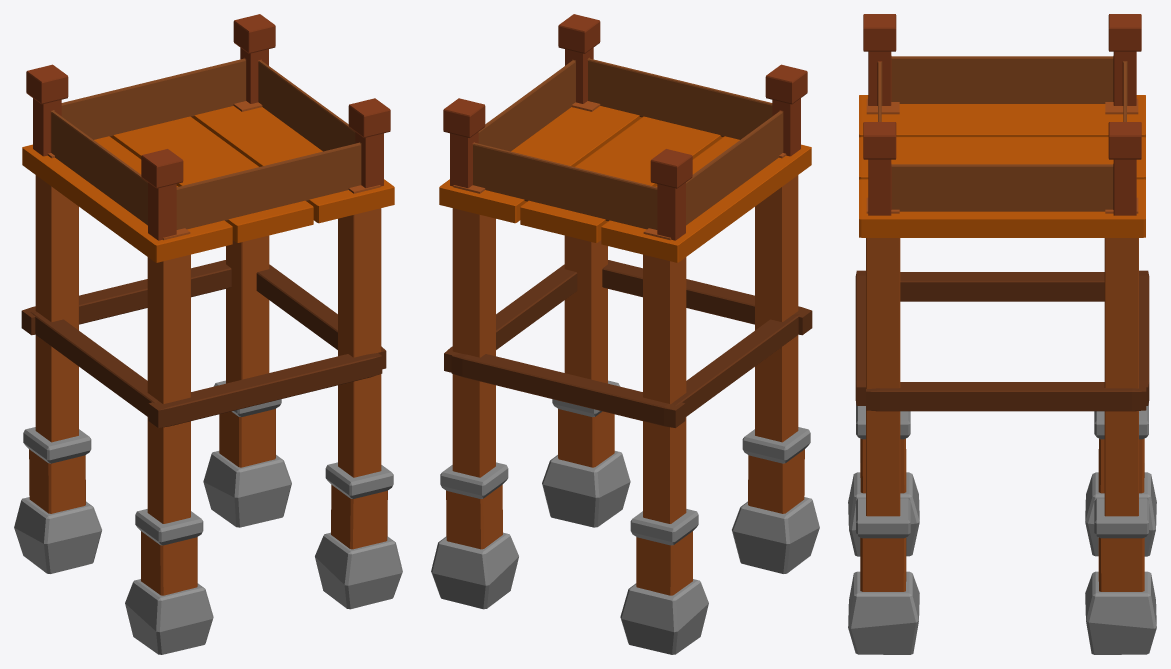
Rendered from tower.fbx.
3 views of the same model, side by side, from view 1: azimuth 30°, elevation 25°; view 2: azimuth 150°, elevation 25°; view 3: azimuth 270°, elevation 25° (orthographic). The views are drawn at different scales.
Parts seen in each view (by area): view 1: Cube.029; view 2: Cube.029; view 3: Cube.029.
Part boxes in pixels (box(x1,y1,x2,y2)): Cube.029: box(14, 14, 402, 654); Cube.029: box(431, 14, 819, 654); Cube.029: box(848, 14, 1156, 654).
Bounding box in the file's own units: 191 × 359 × 193.
